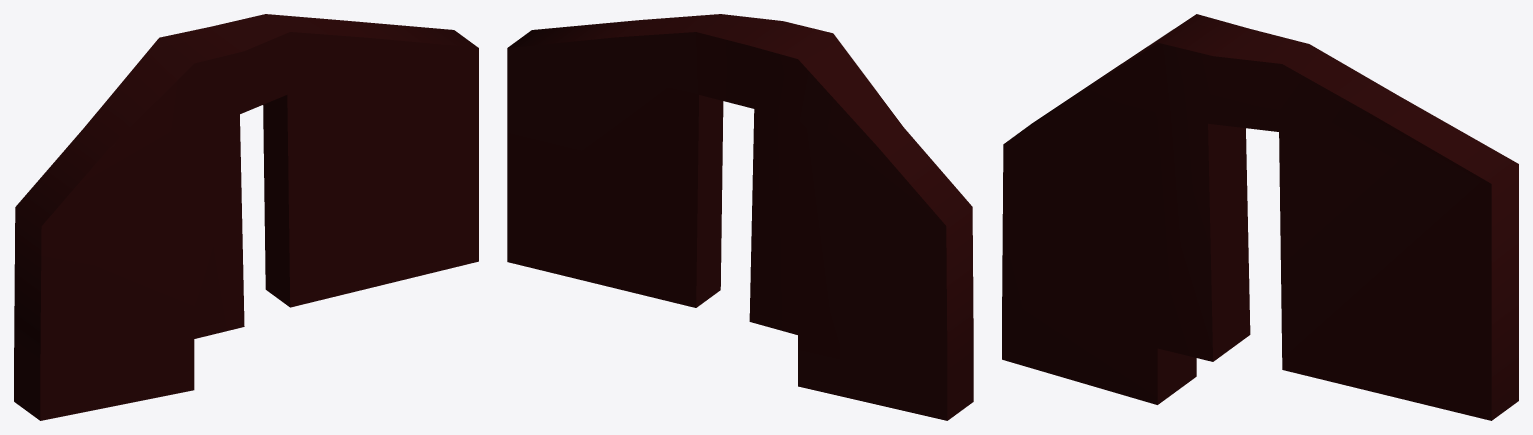
Rendered from UCX_Castle_Wall_F.fbx.
The picture shows the model from 3 angles, left to right: view 1: azimuth 30°, elevation 25°; view 2: azimuth 150°, elevation 25°; view 3: azimuth 330°, elevation 25°; orthographic projection. The views are drawn at different scales.
Parts seen in each view (by area): view 1: UCX_Castle_Wall_F; view 2: UCX_Castle_Wall_F; view 3: UCX_Castle_Wall_F.
Boxes of the visible parts, left/top/right/bottom form: UCX_Castle_Wall_F: left=14, top=14, right=478, bottom=420; UCX_Castle_Wall_F: left=507, top=14, right=973, bottom=420; UCX_Castle_Wall_F: left=1002, top=14, right=1518, bottom=420.
Size of the model in its own units: 1008 by 715 by 140.
